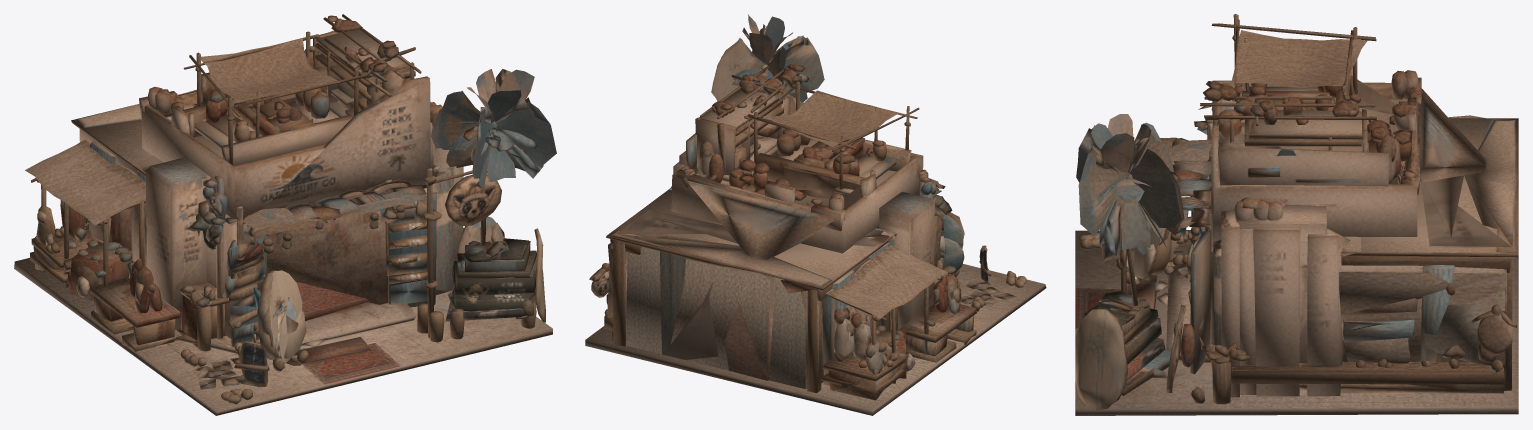
File: marokko surfshop-web.glb
The picture shows the model from 3 angles, left to right: view 1: azimuth 30°, elevation 25°; view 2: azimuth 150°, elevation 25°; view 3: azimuth 270°, elevation 25°; orthographic projection. The views are drawn at different scales.
Bounding box in the file's own units: 1 × 0.6895 × 1.
Materials: 1 (1 with a texture image).
